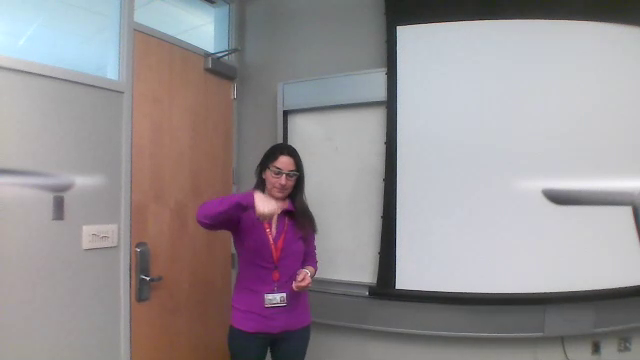down: (250, 188, 281, 235)
